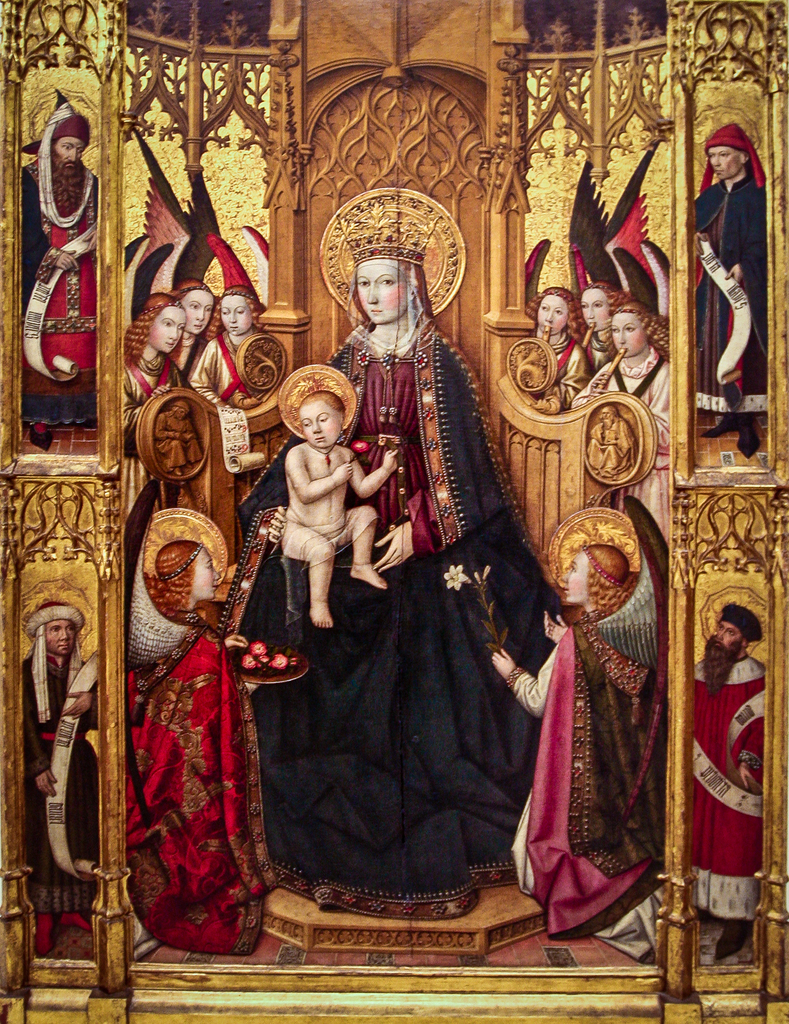Person: (21, 88, 767, 962)
